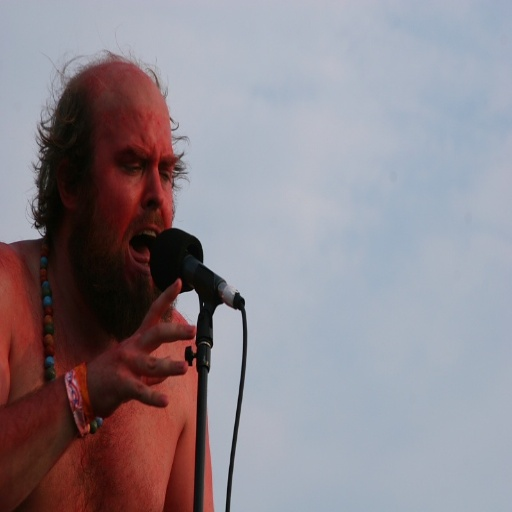hand: (71, 289, 187, 428)
